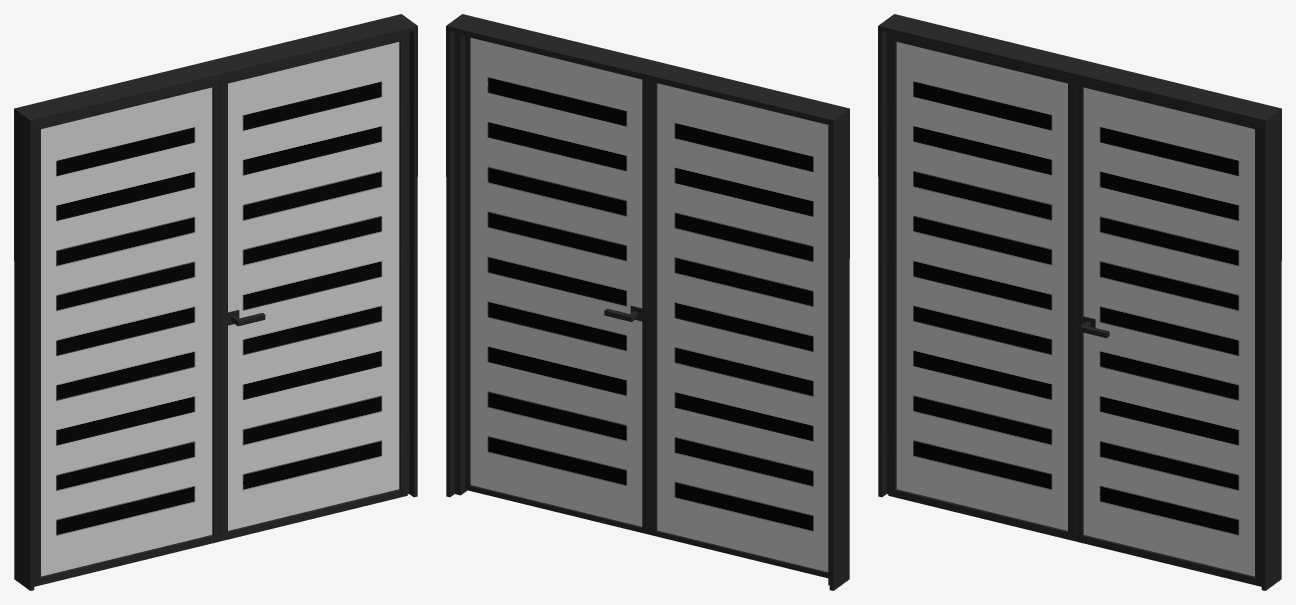
File: window01.obj
3 renders of one model, left to right at view 1: azimuth 30°, elevation 25°; view 2: azimuth 150°, elevation 25°; view 3: azimuth 330°, elevation 25°, orthographic.
Parts seen in each view (by area): view 1: cgaxis_models_79_90_02_2, cgaxis_models_79_90_02_1, cgaxis_models_79_90_01_1, cgaxis_models_79_90_01_2, cgaxis_models_79_90_01_3; view 2: cgaxis_models_79_90_02_1, cgaxis_models_79_90_02_2, cgaxis_models_79_90_01_1, cgaxis_models_79_90_01_3, cgaxis_models_79_90_01_2; view 3: cgaxis_models_79_90_02_2, cgaxis_models_79_90_02_1, cgaxis_models_79_90_01_1, cgaxis_models_79_90_01_3, cgaxis_models_79_90_01_2.
Boxes of the visible parts, <box> form: cgaxis_models_79_90_02_2: <box>41,87,212,576</box>; cgaxis_models_79_90_02_1: <box>228,42,399,530</box>; cgaxis_models_79_90_01_1: <box>14,14,417,590</box>; cgaxis_models_79_90_01_2: <box>220,32,409,541</box>; cgaxis_models_79_90_01_3: <box>34,78,220,586</box>; cgaxis_models_79_90_02_1: <box>470,38,642,526</box>; cgaxis_models_79_90_02_2: <box>657,83,828,571</box>; cgaxis_models_79_90_01_1: <box>446,14,849,590</box>; cgaxis_models_79_90_01_3: <box>646,80,828,578</box>; cgaxis_models_79_90_01_2: <box>465,36,651,534</box>; cgaxis_models_79_90_02_2: <box>896,42,1067,530</box>; cgaxis_models_79_90_02_1: <box>1083,87,1254,576</box>; cgaxis_models_79_90_01_1: <box>878,14,1281,590</box>; cgaxis_models_79_90_01_3: <box>886,32,1075,541</box>; cgaxis_models_79_90_01_2: <box>1075,78,1261,586</box>.
Size of the model in its own units: 193 by 224 by 16.8.
